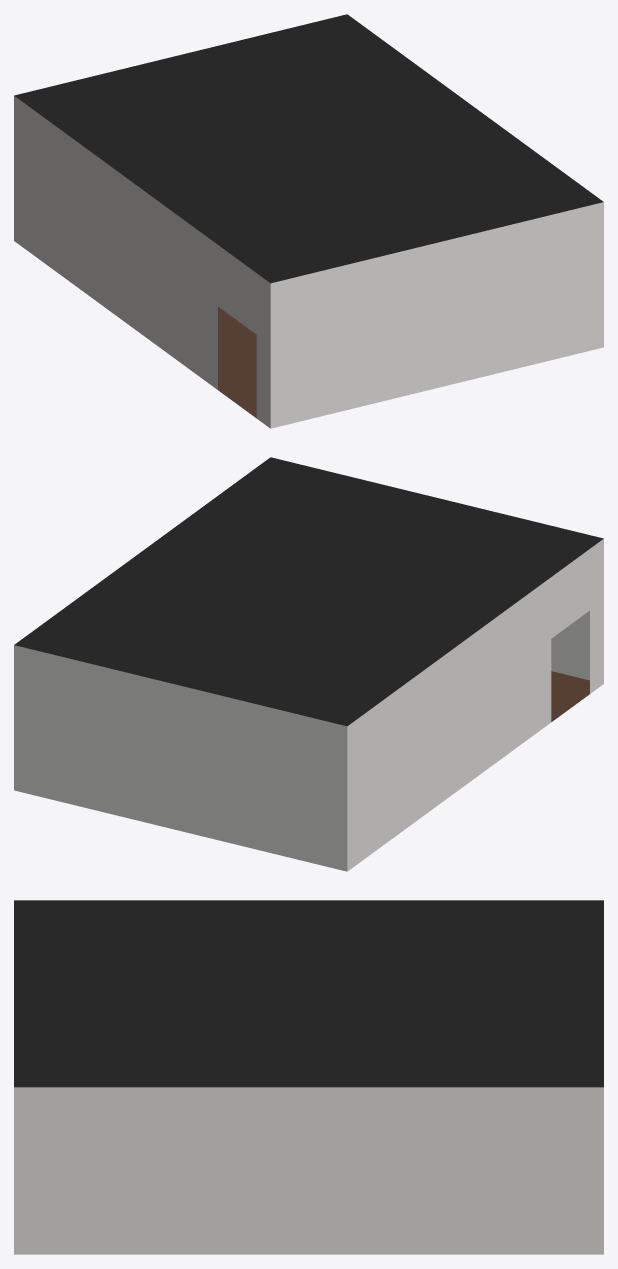
Rendered from creativeRoom.gltf.
3 views of the same model, one above another, from view 1: azimuth 30°, elevation 25°; view 2: azimuth 150°, elevation 25°; view 3: azimuth 270°, elevation 25° (orthographic). The views are drawn at different scales.
Parts seen in each view (by area): view 1: Room; view 2: Room; view 3: Room.
Boxes of the visible parts, x1,y1,x2,y2 form: Room: (14, 14, 603, 428); Room: (14, 457, 603, 871); Room: (14, 900, 603, 1254).
Bounding box in the file's own units: 12 × 5 × 16.
